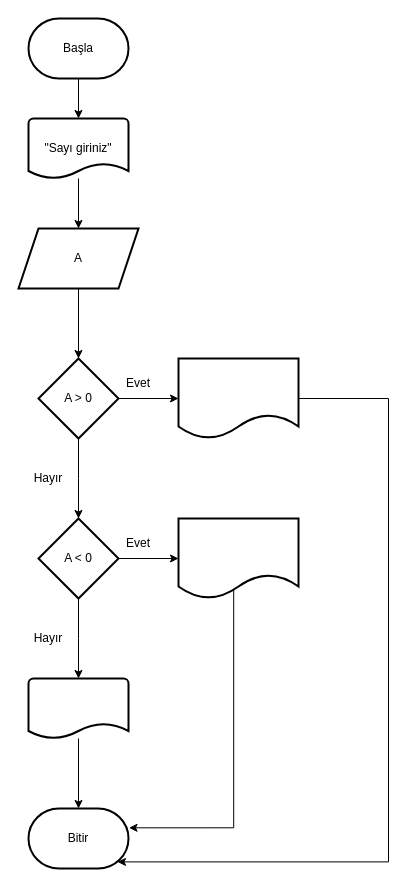
Some shapes in this 414 by 887 pixel diagram are drawn without their labels. Here are the shapes that lost their labels. From the top down, the centre of each, then its label:
pixel 238 398: "Sayı pozitif"
pixel 238 558: "Sayı Negatif"
pixel 78 708: "Sayı sıfır"
